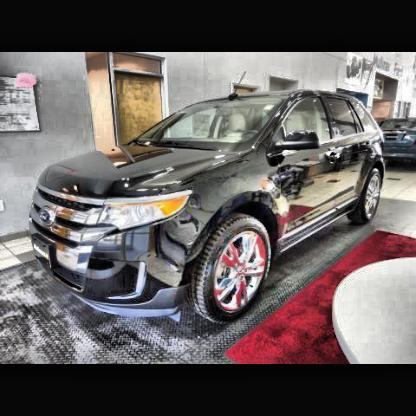Ford Edge SUV 2012: (32, 90, 387, 324)
